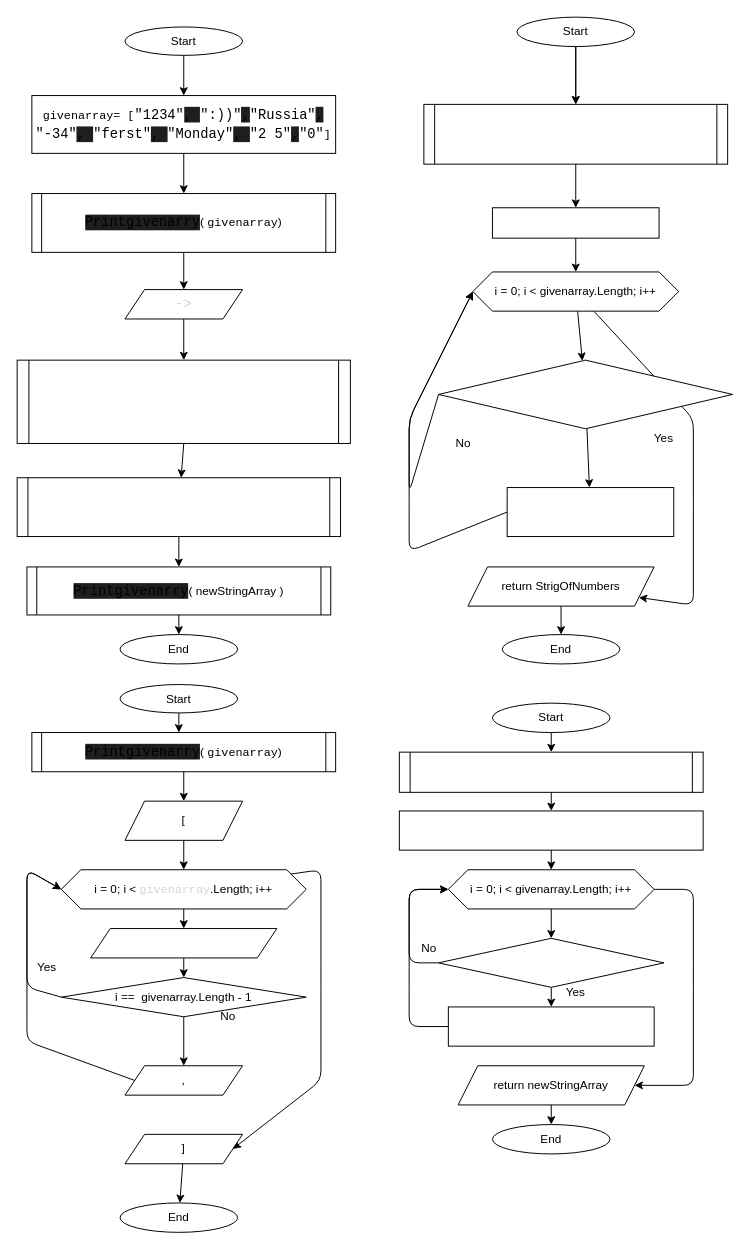
This 750x1250 diagram has some shape labels left out. The centre of each missing label's shape, as x and y in pixels:
"AmountOfElements(givenarray)" belongs at point (575, 133).
"givenarray[ i ]" belongs at point (183, 943).
"givenarray[ i ].Length <4" belongs at point (551, 962).
"givenarray[i].Length <4" belongs at point (585, 394).
"newStringArray = SortedCreatedArray ( givenarraу , sizeNewArray)" belongs at point (178, 507).
"newStringArray[ j ] = givenarray[ i ] j++" belongs at point (550, 1026).
"numberOfStrings = 0;" belongs at point (575, 222).
"sizeNewArray = AmountOfElements ( givenarray )" belongs at point (183, 401).
"SortedCreatedArray ( givenarray, sizeNewArray )" belongs at point (550, 771).
"StrigOfNumber++" belongs at point (590, 512).
"string[] newStringArray = new string [ sizeNewArray ] j = 0;" belongs at point (550, 830).
